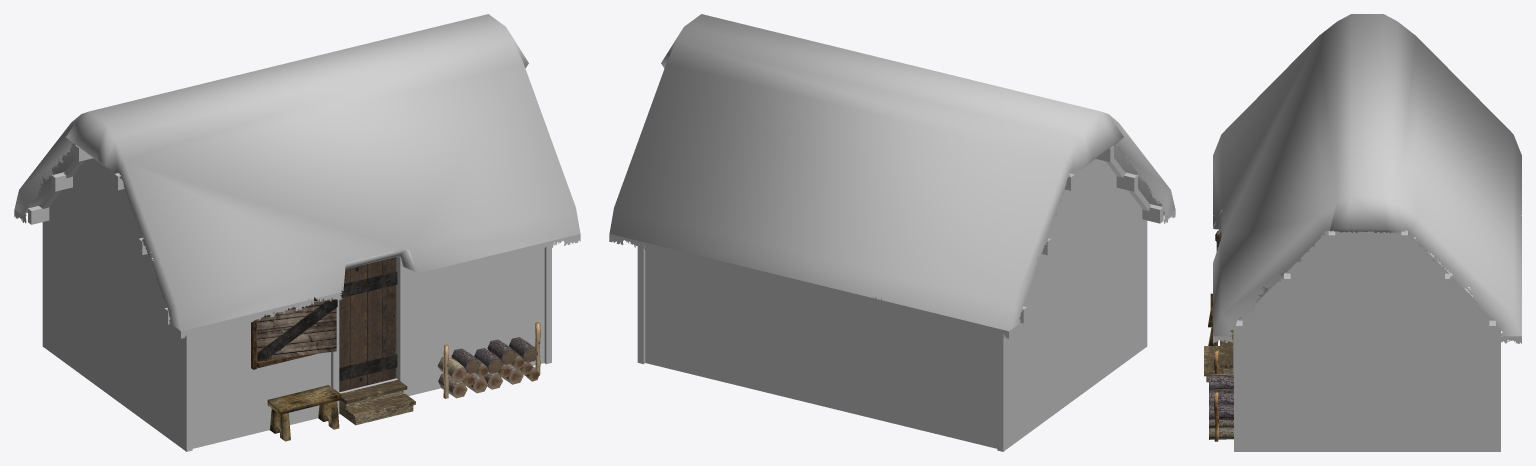
File: small_shack.FBX
3 renders of one model, left to right at view 1: azimuth 30°, elevation 25°; view 2: azimuth 150°, elevation 25°; view 3: azimuth 270°, elevation 25°, orthographic. The views are drawn at different scales.
Parts seen in each view (by area): view 1: house_; view 2: house_; view 3: house_.
Part boxes in pixels (<box>): house_: <box>14,14,580,451</box>; house_: <box>609,14,1175,451</box>; house_: <box>1204,14,1521,451</box>.
Bounding box in the file's own units: 6.95 × 4.5 × 4.87.
